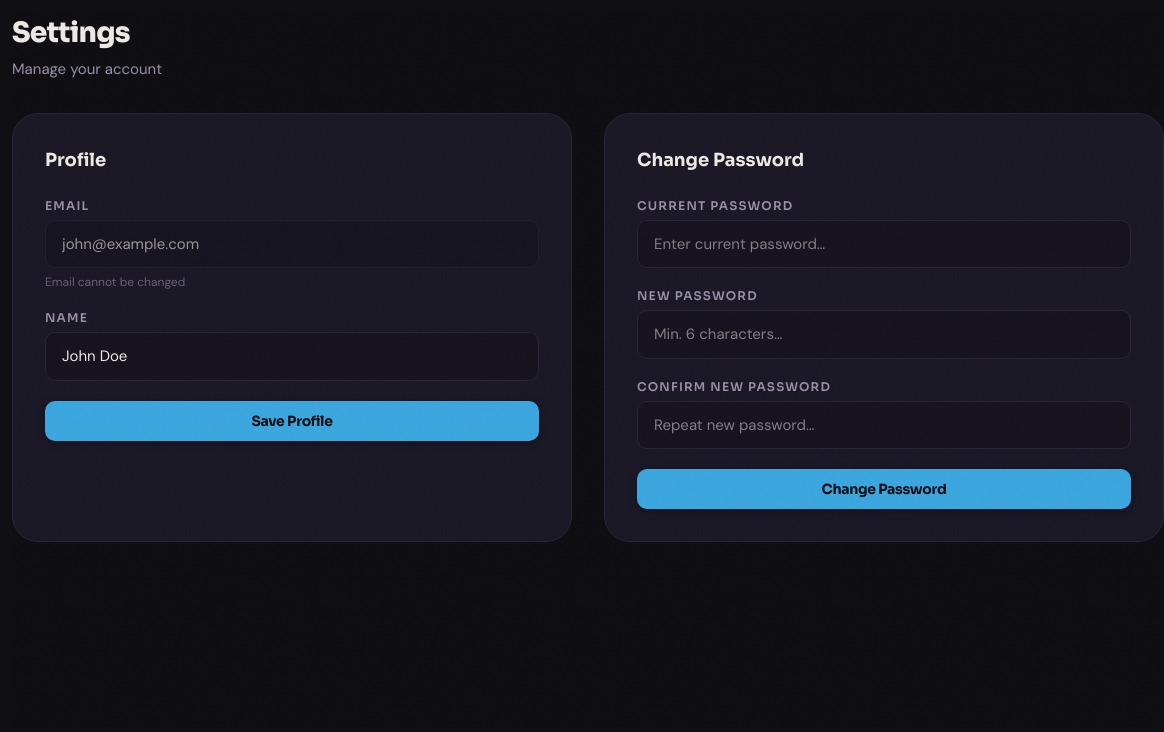
Scenario: SettingsPage › shows error when profile update fails
Click the button "Save Profile": (292, 420) left=45, top=400, right=539, bottom=440
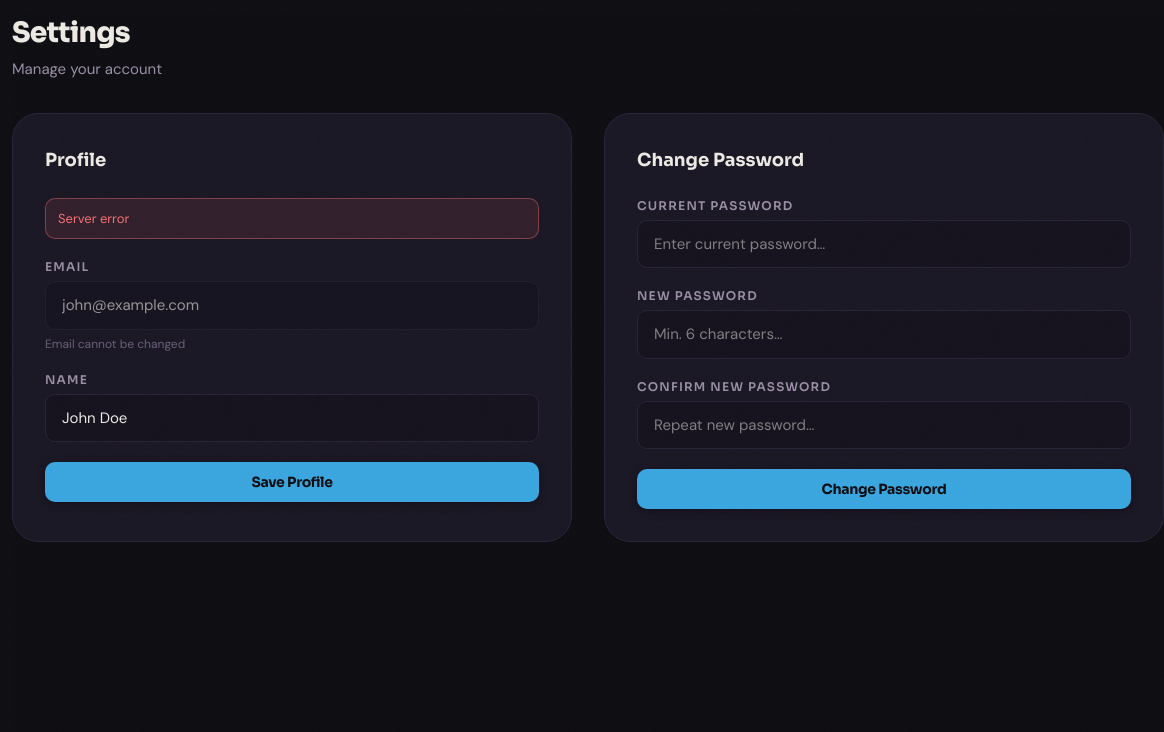
Expected: the text "Server error" is shown, left=45, top=198, right=539, bottom=239
